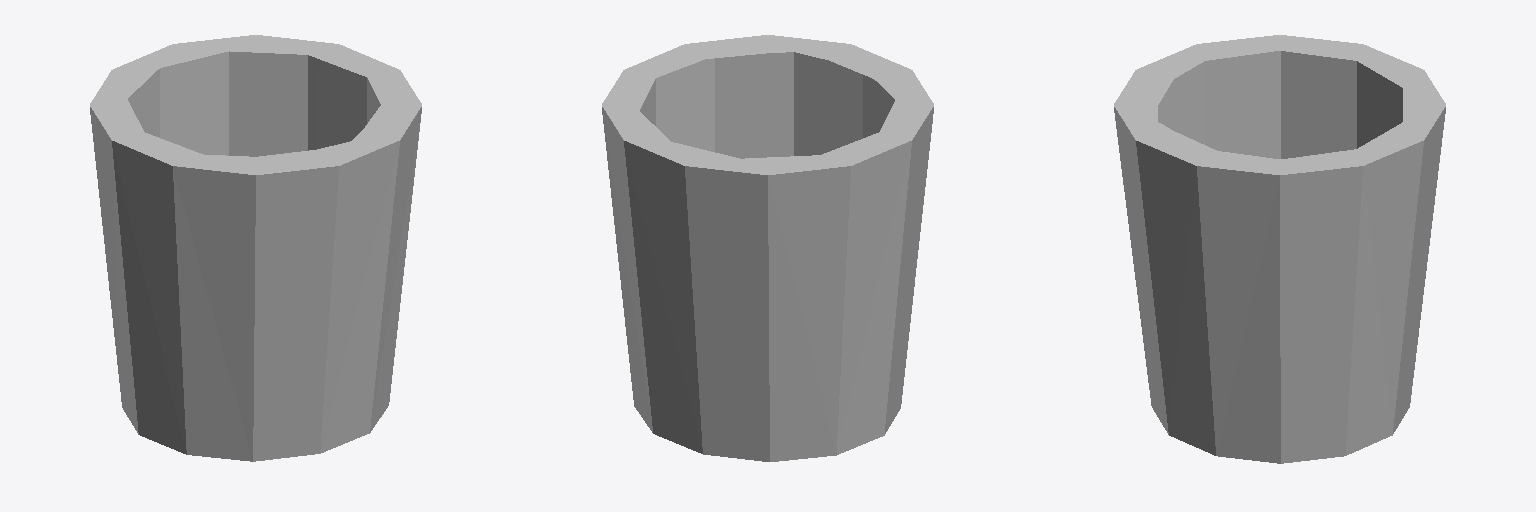
The model's file is trash_can.obj.
3 renders of one model, left to right at view 1: azimuth 30°, elevation 25°; view 2: azimuth 150°, elevation 25°; view 3: azimuth 270°, elevation 25°, orthographic.
Parts seen in each view (by area): view 1: House_Pack.obj00f856ee-0940-472c-bbf3-ebf873640a90.138; view 2: House_Pack.obj00f856ee-0940-472c-bbf3-ebf873640a90.138; view 3: House_Pack.obj00f856ee-0940-472c-bbf3-ebf873640a90.138.
Part boxes in pixels (left/top/right/bottom): House_Pack.obj00f856ee-0940-472c-bbf3-ebf873640a90.138: left=90, top=35, right=421, bottom=461; House_Pack.obj00f856ee-0940-472c-bbf3-ebf873640a90.138: left=602, top=35, right=933, bottom=461; House_Pack.obj00f856ee-0940-472c-bbf3-ebf873640a90.138: left=1114, top=35, right=1445, bottom=463.
Bounding box in the file's own units: 4.78 × 4.77 × 4.78.